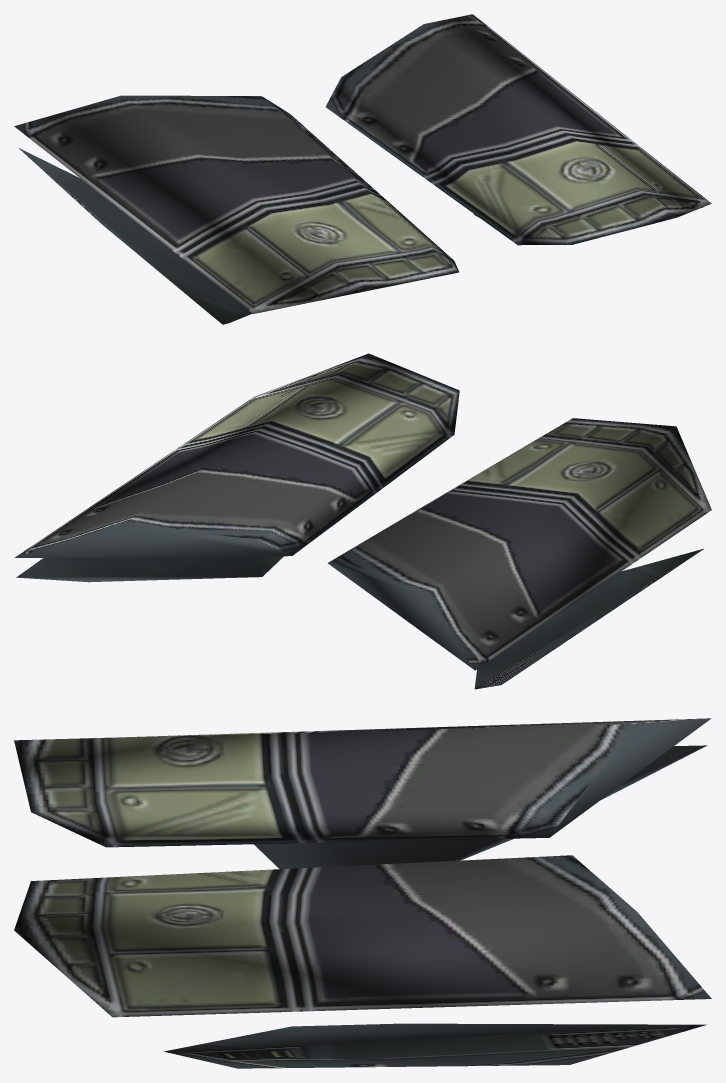
File: LegPads4__FDC.glb
3 views of the same model, one above another, from view 1: azimuth 30°, elevation 25°; view 2: azimuth 150°, elevation 25°; view 3: azimuth 270°, elevation 25° (orthographic). The views are drawn at different scales.
Visible parts, largest first — view 1: LegPads4; view 2: LegPads4; view 3: LegPads4.
Part boxes in pixels (<box>): LegPads4: <box>14,14,711,324</box>; LegPads4: <box>14,353,711,689</box>; LegPads4: <box>14,718,711,1068</box>.
Bounding box in the file's own units: 21.19 × 4.76 × 21.24.
Materials: 1 (1 with a texture image).
